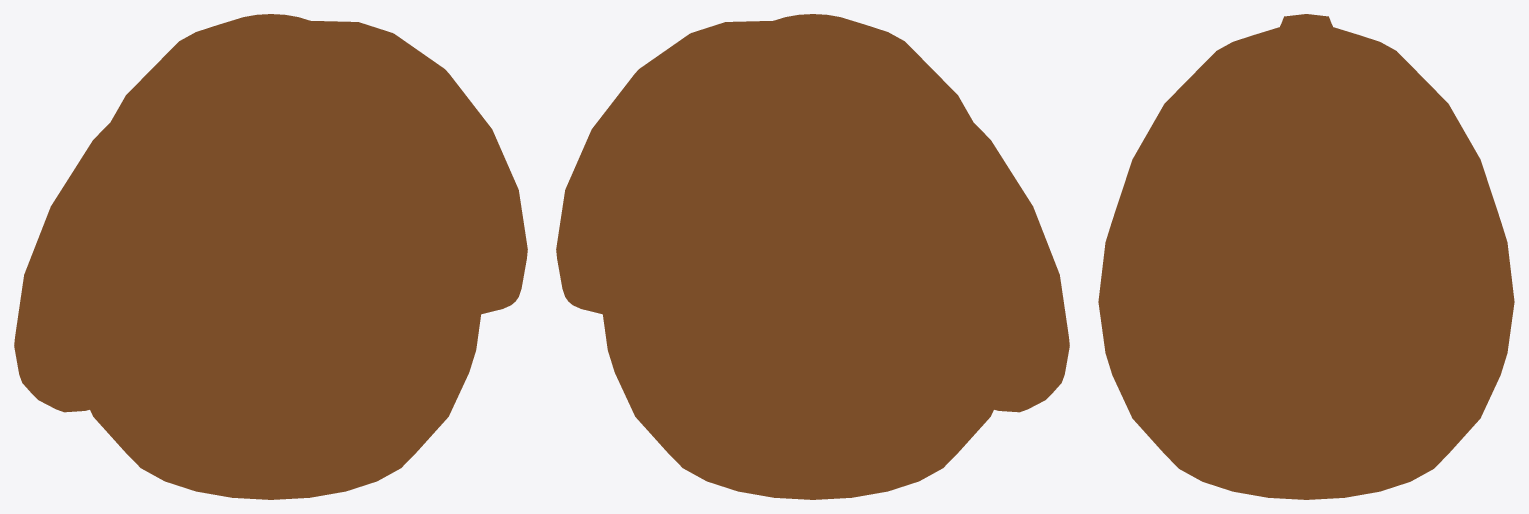
The model's file is char-dog.glb.
The picture shows the model from 3 angles, left to right: view 1: azimuth 30°, elevation 25°; view 2: azimuth 150°, elevation 25°; view 3: azimuth 270°, elevation 25°; orthographic projection. The views are drawn at different scales.
Visible parts, largest first — view 1: character_dog_Cube.046; view 2: character_dog_Cube.046; view 3: character_dog_Cube.046.
Boxes of the visible parts, box(x1,y1,x2,y2) form: character_dog_Cube.046: box(14, 14, 527, 499); character_dog_Cube.046: box(556, 14, 1069, 499); character_dog_Cube.046: box(1098, 14, 1514, 499).
Bounding box in the file's own units: 0.9379 × 0.7256 × 0.7.
